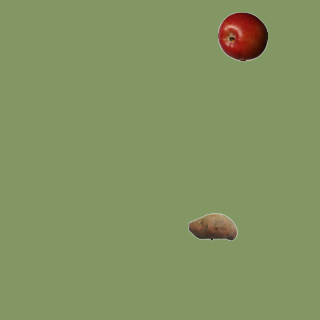Apple Braeburn: (217, 11, 267, 61)
Potato Sweet: (187, 201, 237, 251)
